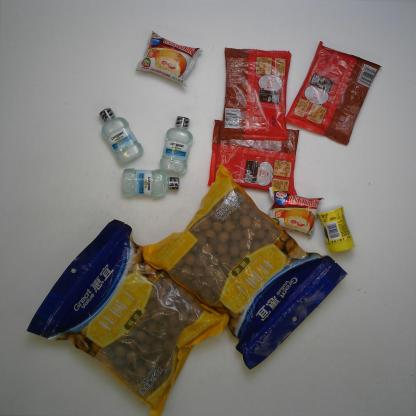Dessert: (282, 40, 380, 145), (216, 45, 292, 144), (206, 117, 299, 196), (134, 31, 202, 87), (262, 186, 324, 236)
Dried Food: (135, 165, 345, 370), (25, 218, 228, 411)
Gum: (317, 206, 356, 253)
Personal Hygiene: (96, 106, 143, 166), (119, 166, 181, 200), (157, 115, 192, 174)
